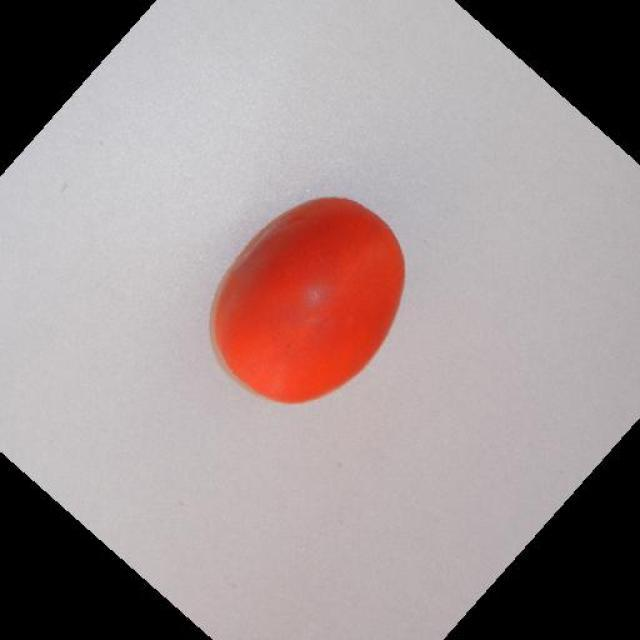Fresh Tomato: (184, 175, 428, 433)
